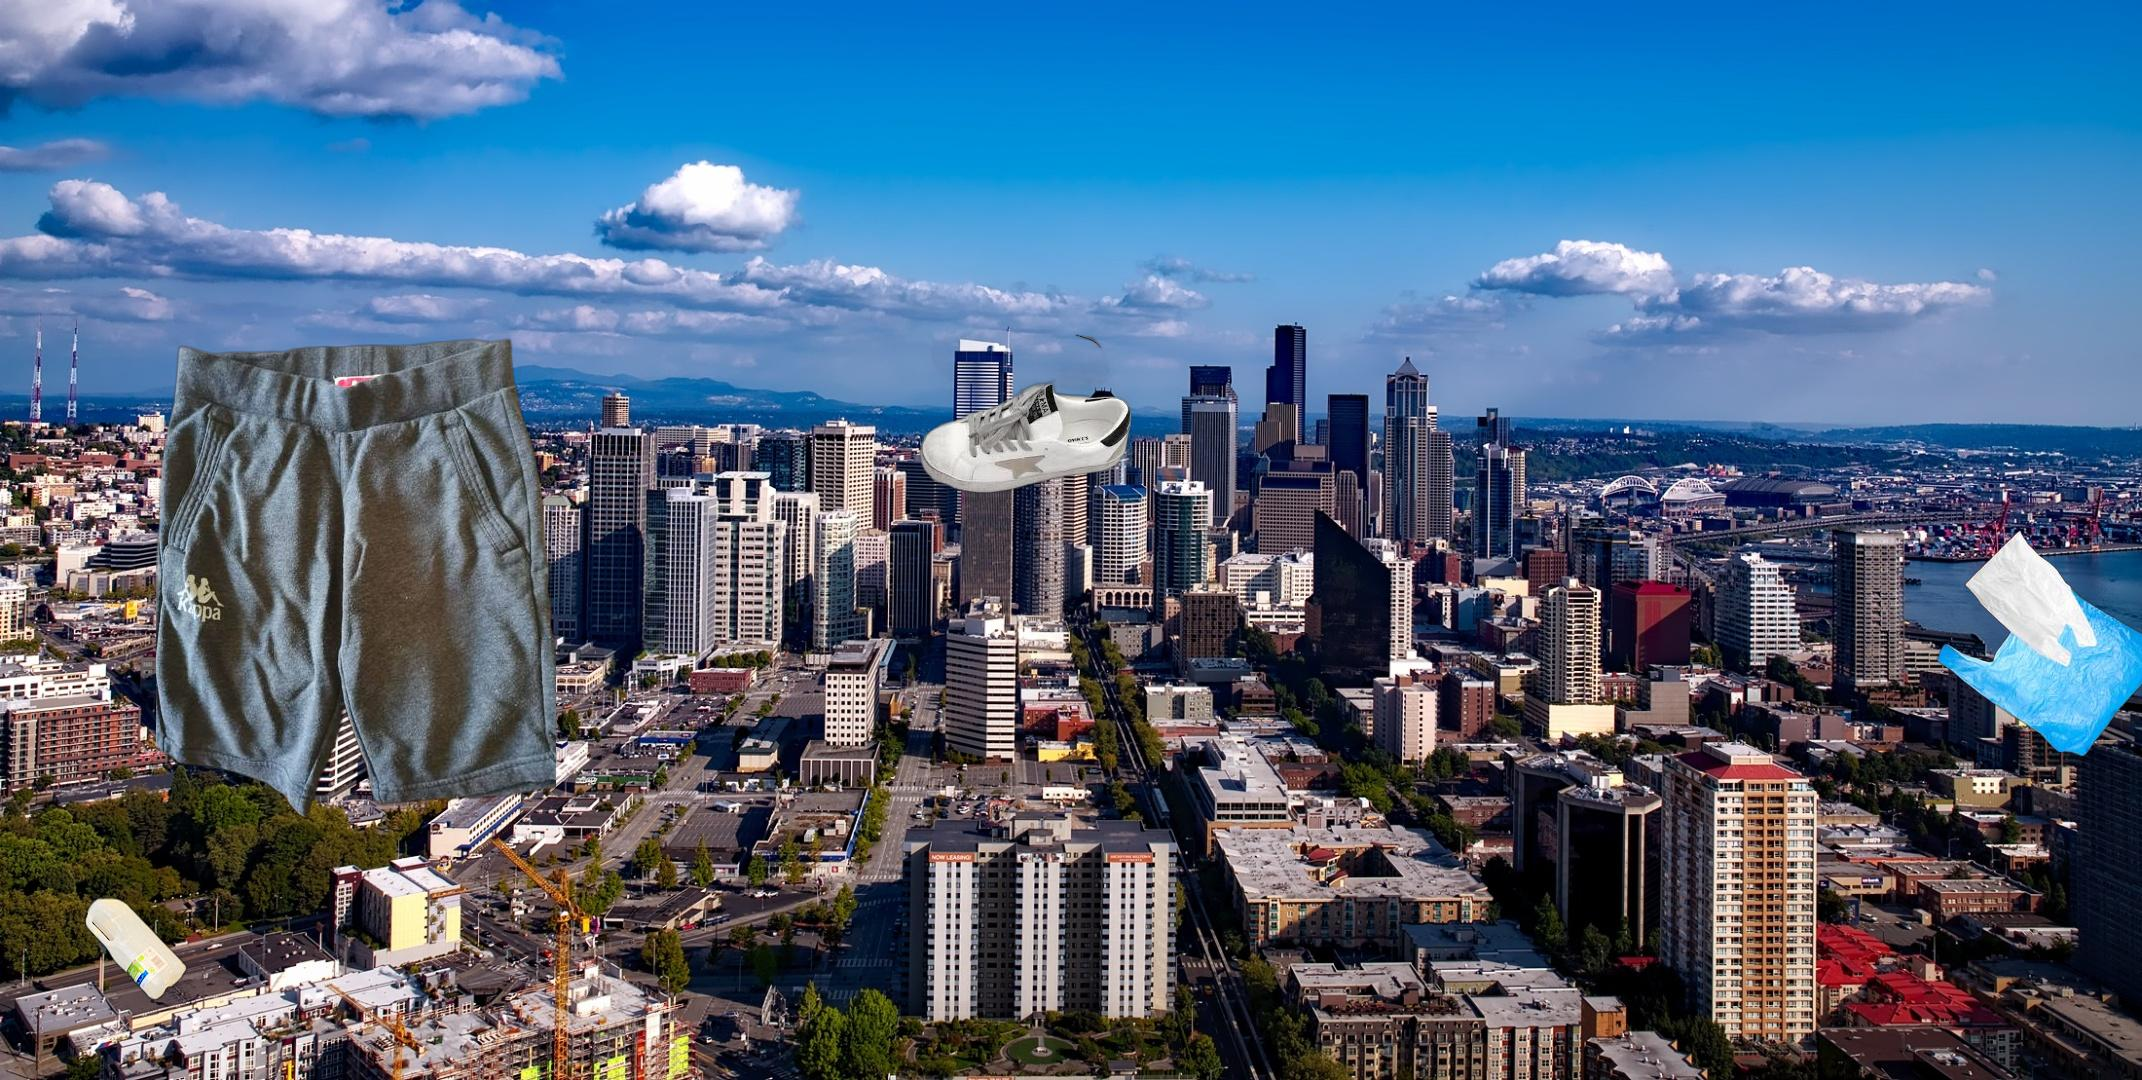clothes: (156, 335, 557, 822)
plastic-bag: (1934, 529, 2142, 759)
plastic-bottles: (81, 893, 191, 1006)
shoes: (917, 292, 1134, 496)
